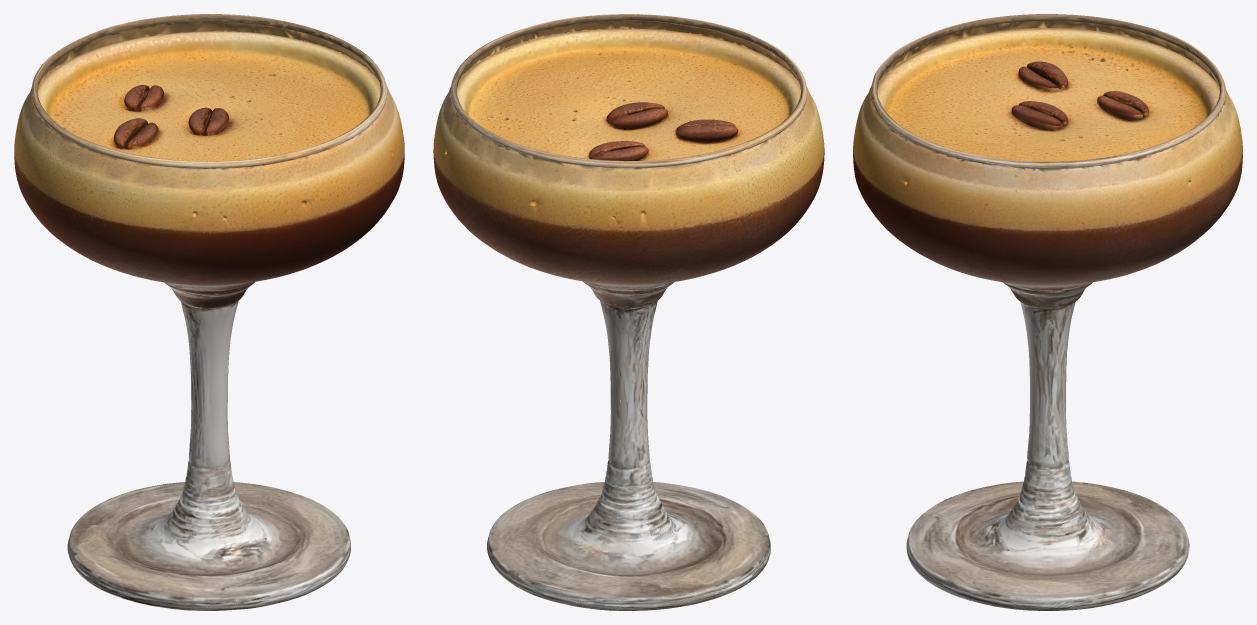
File: haspresso-martini-v1.glb
The picture shows the model from 3 angles, left to right: view 1: azimuth 30°, elevation 25°; view 2: azimuth 150°, elevation 25°; view 3: azimuth 270°, elevation 25°; orthographic projection.
Visible parts, largest first — view 1: tripo_node_eb884ef3-80fe-4724-8610-bac24781410a; view 2: tripo_node_eb884ef3-80fe-4724-8610-bac24781410a; view 3: tripo_node_eb884ef3-80fe-4724-8610-bac24781410a.
Boxes of the visible parts, x1,y1,x2,y2 form: tripo_node_eb884ef3-80fe-4724-8610-bac24781410a: [14, 14, 404, 610]; tripo_node_eb884ef3-80fe-4724-8610-bac24781410a: [433, 14, 824, 610]; tripo_node_eb884ef3-80fe-4724-8610-bac24781410a: [853, 14, 1242, 610].
Bounding box in the file's own units: 0.7445 × 0.9811 × 0.7466.
Materials: 1 (1 with a texture image).
